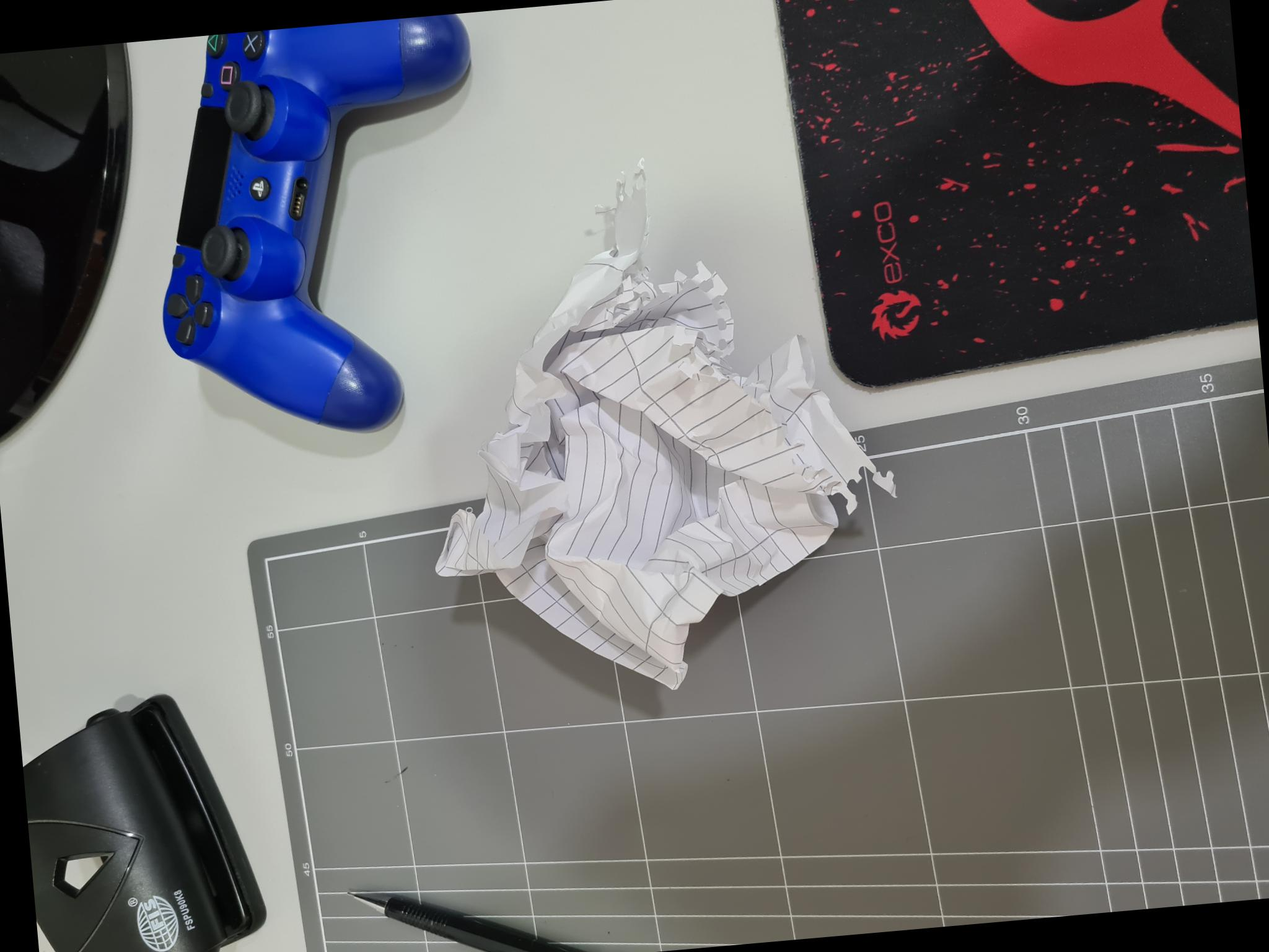Kertas: (278, 450, 778, 905)
